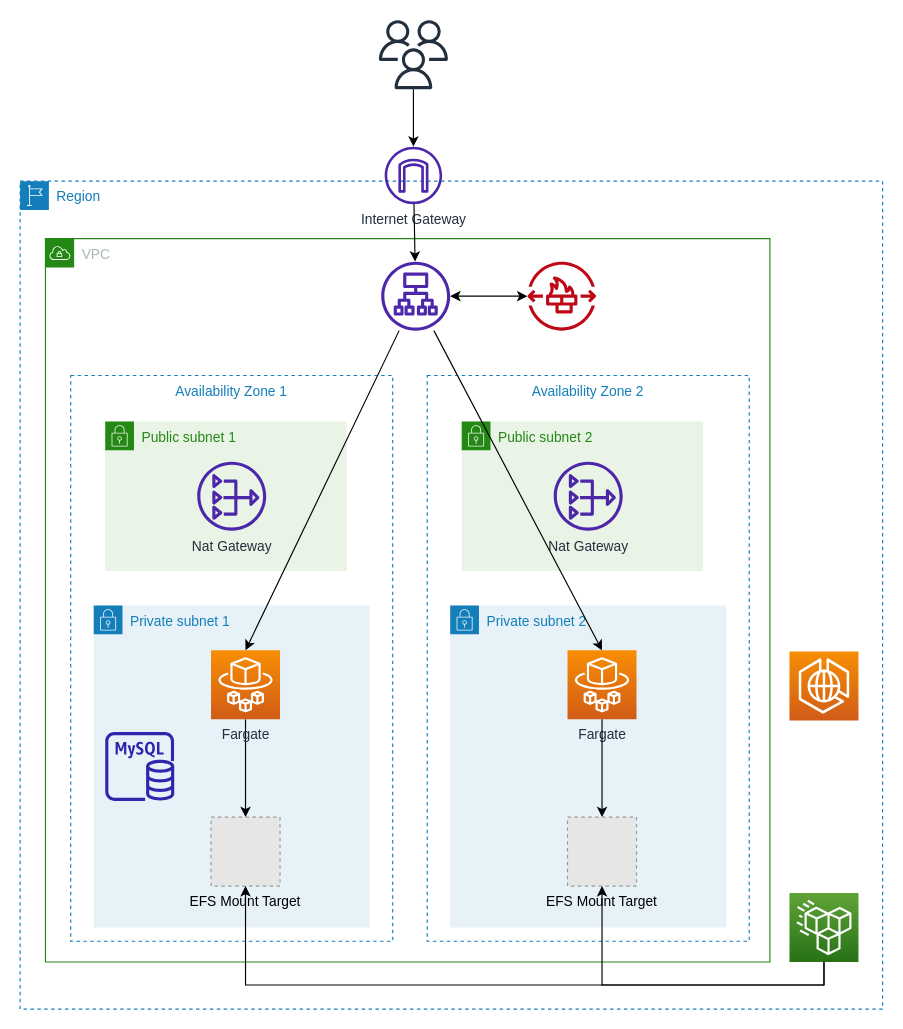
Image size: 903x1029. Some labels were removed from this diagram. Grey dashed boxes stand in for pictures. Here are the shapes that lost their labels. From the top down, the centre of each, then its label:
At (415,295): "ALB".
At (561,295): "WAF".
At (823,685): "ECS".
At (139,765): "RDS".
At (823,927): "EFS".
